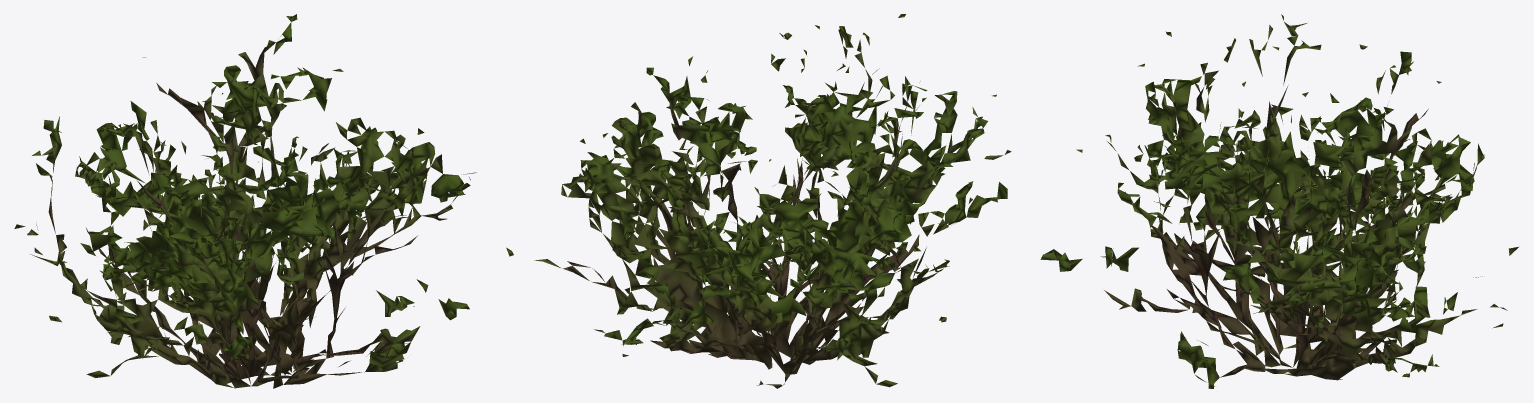
Rendered from shrub.1.glb.
The picture shows the model from 3 angles, left to right: view 1: azimuth 30°, elevation 25°; view 2: azimuth 150°, elevation 25°; view 3: azimuth 270°, elevation 25°; orthographic projection. The views are drawn at different scales.
Visible parts, largest first — view 1: lod; view 2: lod; view 3: lod.
Boxes of the visible parts, box(x1,y1,x2,y2) form: lod: box(14, 14, 476, 388); lod: box(506, 14, 1011, 388); lod: box(1040, 14, 1518, 388).
Bounding box in the file's own units: 0.8484 × 0.614 × 0.8578.
